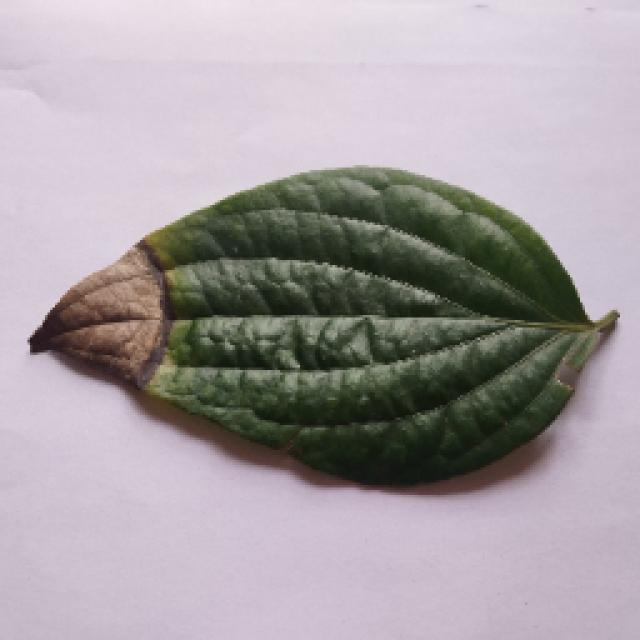footrot: (28, 165, 618, 480)
